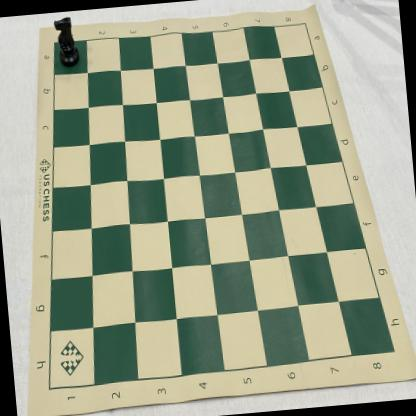knight: (54, 16, 82, 68)
